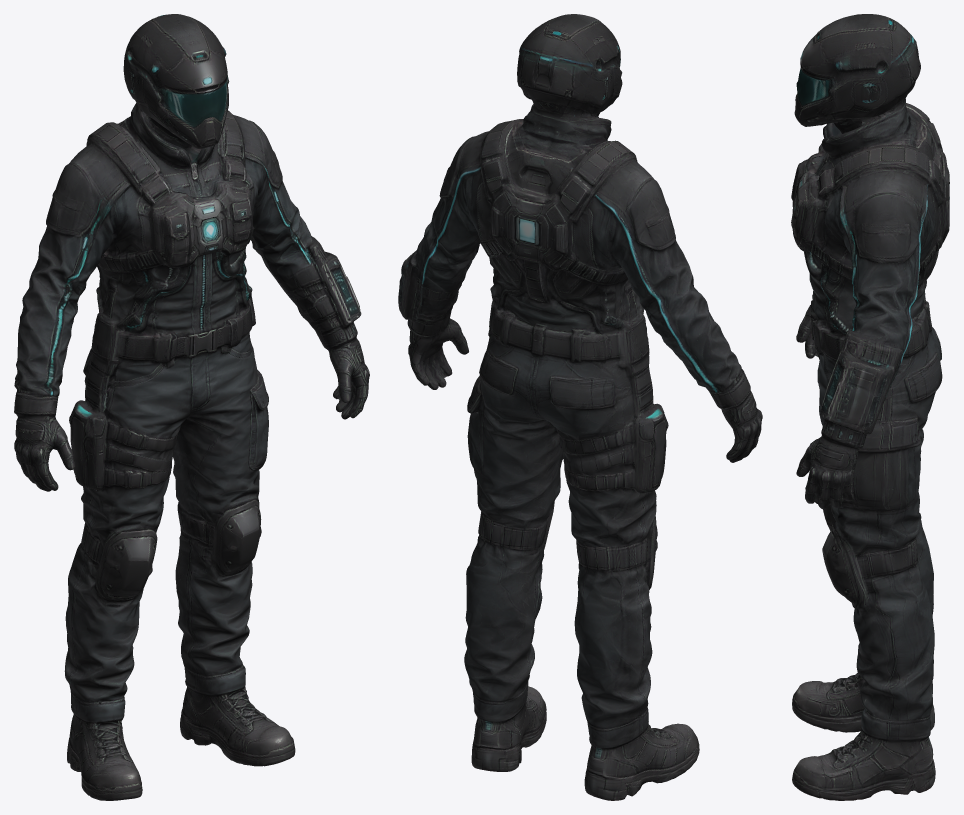
Rendered from conduit_operator.glb.
The picture shows the model from 3 angles, left to right: view 1: azimuth 30°, elevation 25°; view 2: azimuth 150°, elevation 25°; view 3: azimuth 270°, elevation 25°; orthographic projection.
Visible parts, largest first — view 1: Mesh_0; view 2: Mesh_0; view 3: Mesh_0.
Part boxes in pixels (x1,y1,x2,y2): Mesh_0: (14, 14, 369, 800); Mesh_0: (398, 14, 762, 800); Mesh_0: (791, 14, 949, 800).
Bounding box in the file's own units: 0.9241 × 1.9 × 0.368.
Materials: 1 (1 with a texture image).
